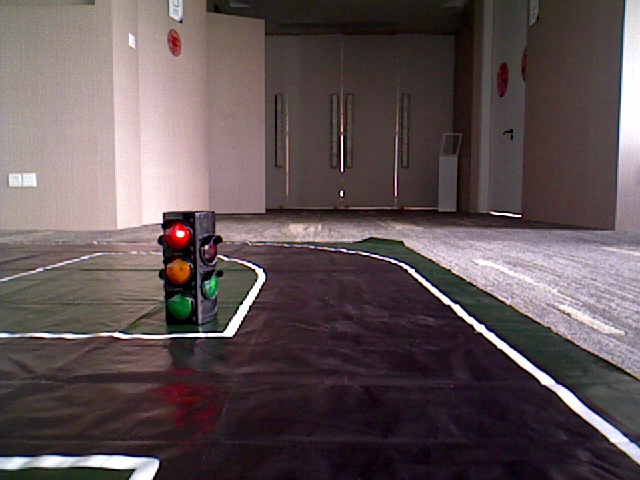red: (160, 216, 200, 320)
